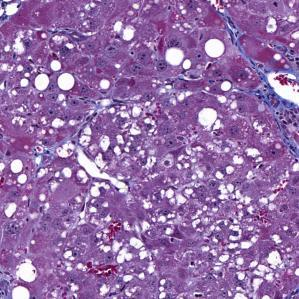fibrosis: (249, 76, 298, 147)
